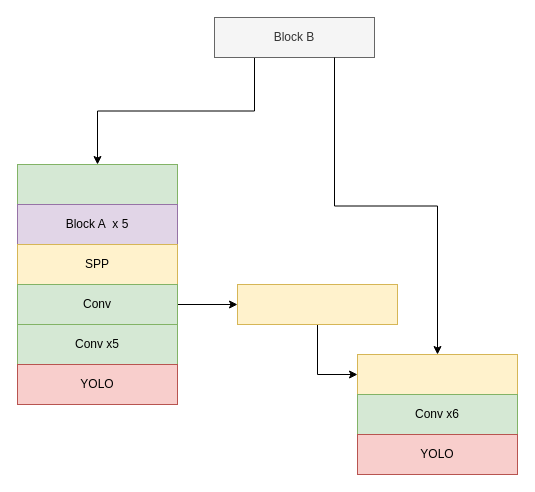
The diagram is 535 pixels wide and 492 high, and some of its shapes have lost their labels. Each missing label, with the centre of its shape:
Conv x2: (97,184)
route: (437,374)
route -> upsample -> route: (317,304)
